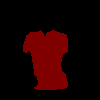polo: (22, 30, 68, 90)
